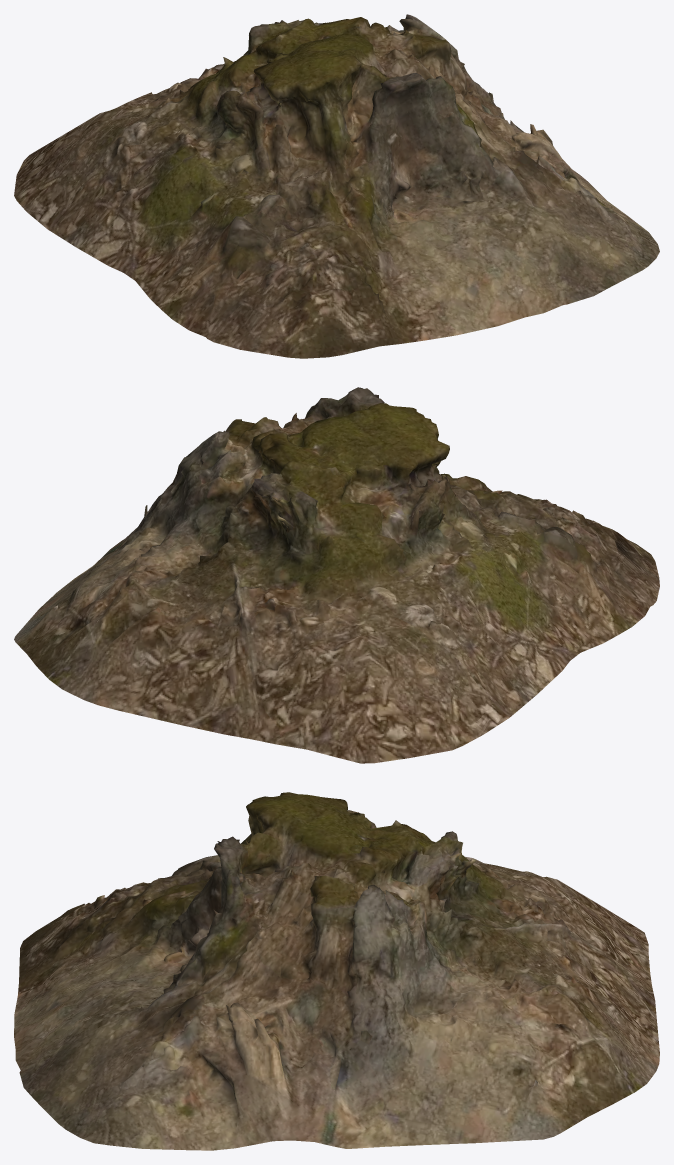
File: tree_stump_01.glb
3 views of the same model, one above another, from view 1: azimuth 30°, elevation 25°; view 2: azimuth 150°, elevation 25°; view 3: azimuth 270°, elevation 25° (orthographic). The views are drawn at different scales.
Parts seen in each view (by area): view 1: tree_stump_01; view 2: tree_stump_01; view 3: tree_stump_01.
Part boxes in pixels (x1=…): tree_stump_01: x1=14, y1=14, x2=659, y2=358; tree_stump_01: x1=14, y1=387, x2=659, y2=763; tree_stump_01: x1=14, y1=792, x2=659, y2=1150.
Size of the model in its own units: 1.43 by 0.5725 by 1.59.
Materials: 1 (1 with a texture image).
